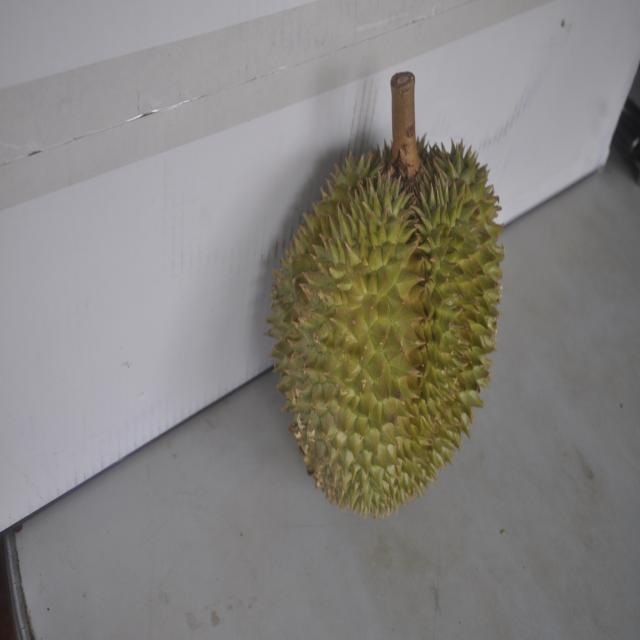mature: (273, 75, 507, 513)
